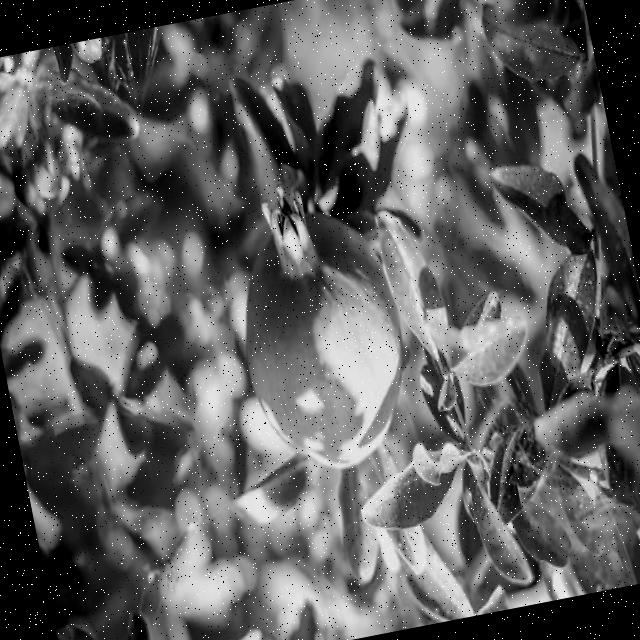Unripe: (214, 168, 423, 482)
